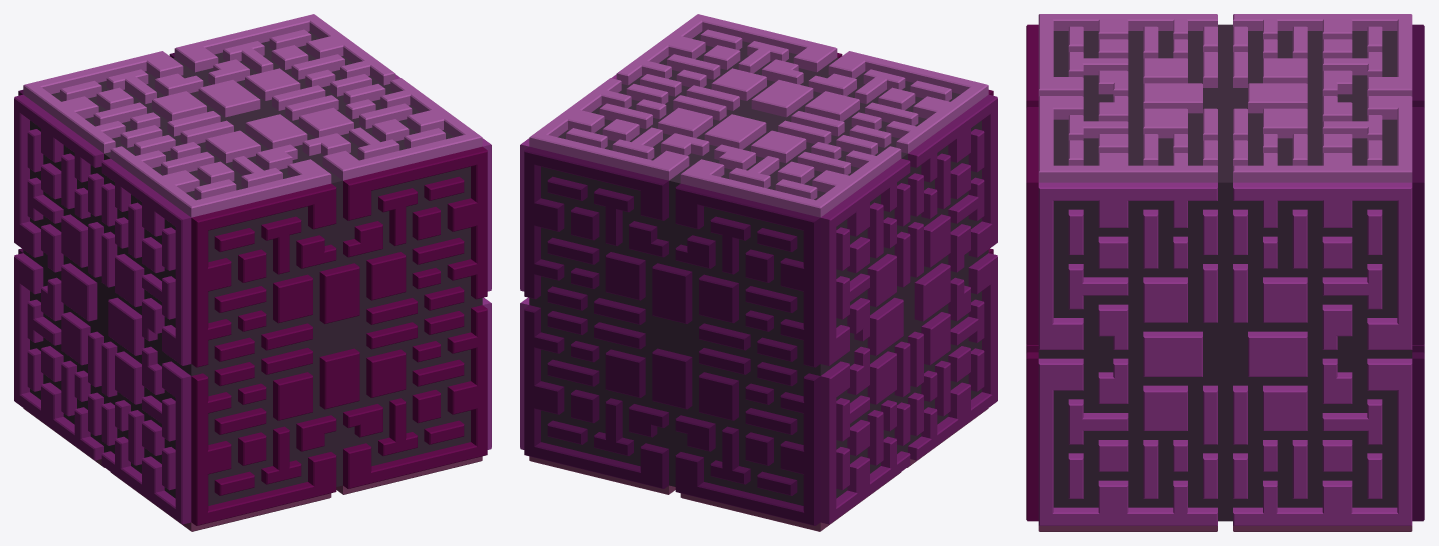
Rendered from Iteration3level3Trevor.fbx.
3 views of the same model, side by side, from view 1: azimuth 30°, elevation 25°; view 2: azimuth 150°, elevation 25°; view 3: azimuth 270°, elevation 25° (orthographic). The views are drawn at different scales.
Visible parts, largest first — view 1: Maze, Cube_3; view 2: Maze, Cube_3; view 3: Maze, Cube_3.
Boxes of the visible parts, x1,y1,x2,y2 form: Maze: (14,14,491,531); Cube_3: (23,31,482,505); Maze: (520,14,997,531); Cube_3: (529,31,988,505); Maze: (1026,14,1424,531); Cube_3: (1038,24,1412,521).
Size of the model in its own units: 80.03 by 80.03 by 80.03.
